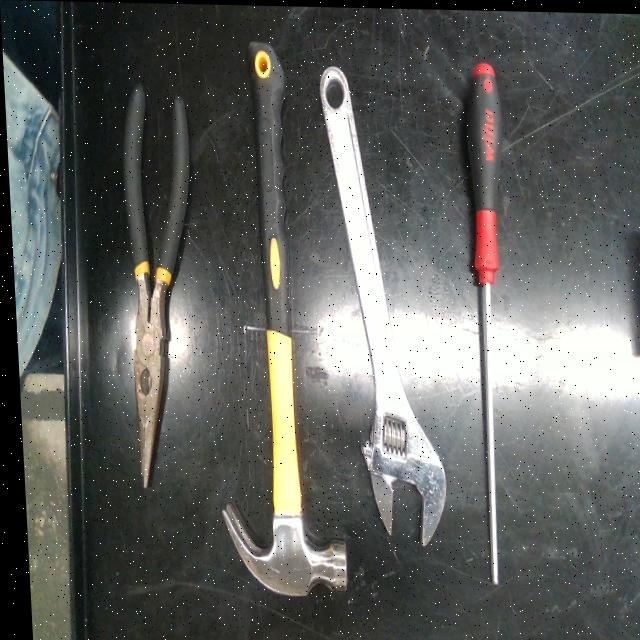Screwdriver: (466, 60, 500, 584)
